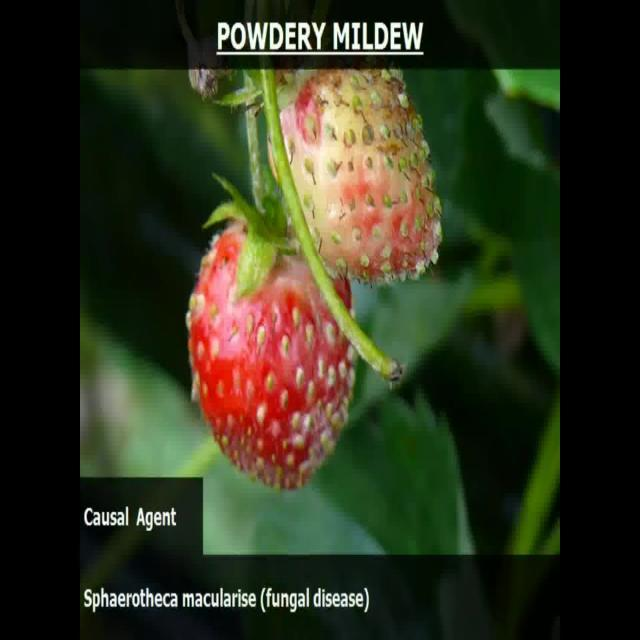Oído: (188, 220, 364, 490), (274, 65, 446, 288)
